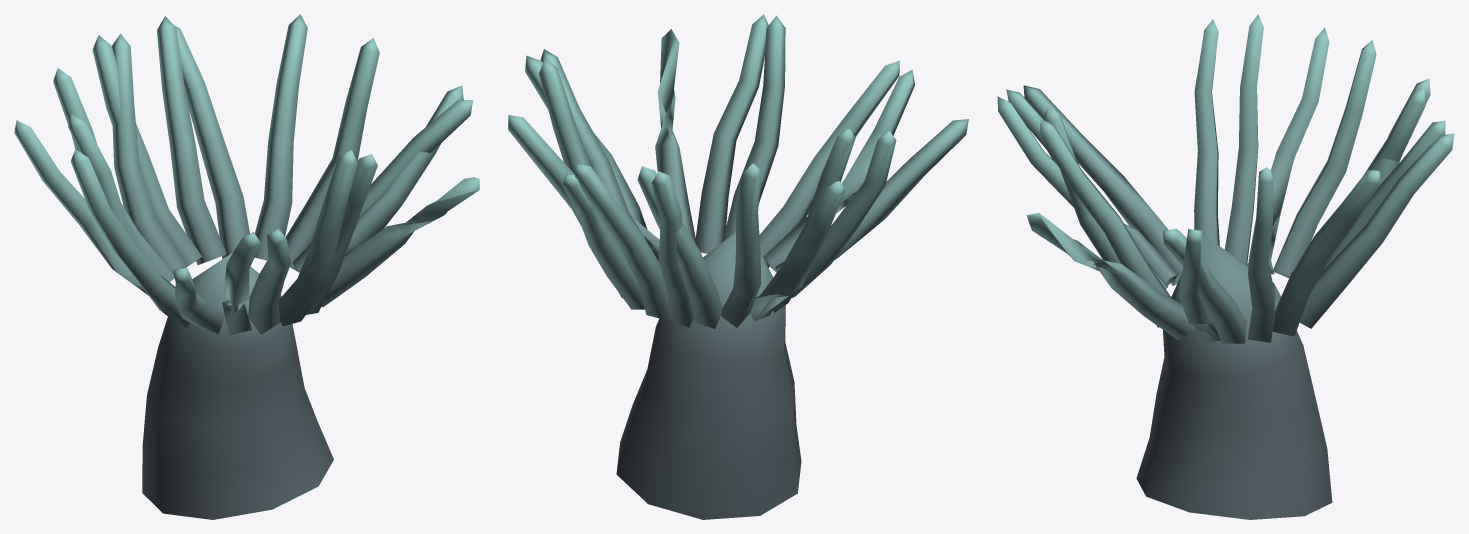
Rendered from anemone_glow.glb.
3 views of the same model, side by side, from view 1: azimuth 30°, elevation 25°; view 2: azimuth 150°, elevation 25°; view 3: azimuth 270°, elevation 25° (orthographic). The views are drawn at different scales.
Parts seen in each view (by area): view 1: anemone_glow; view 2: anemone_glow; view 3: anemone_glow.
Boxes of the visible parts, box(x1,y1,x2,y2) form: anemone_glow: box(14, 14, 479, 519); anemone_glow: box(508, 14, 968, 519); anemone_glow: box(997, 14, 1454, 519).
Size of the model in its own units: 0.4087 by 0.4136 by 0.4134.
